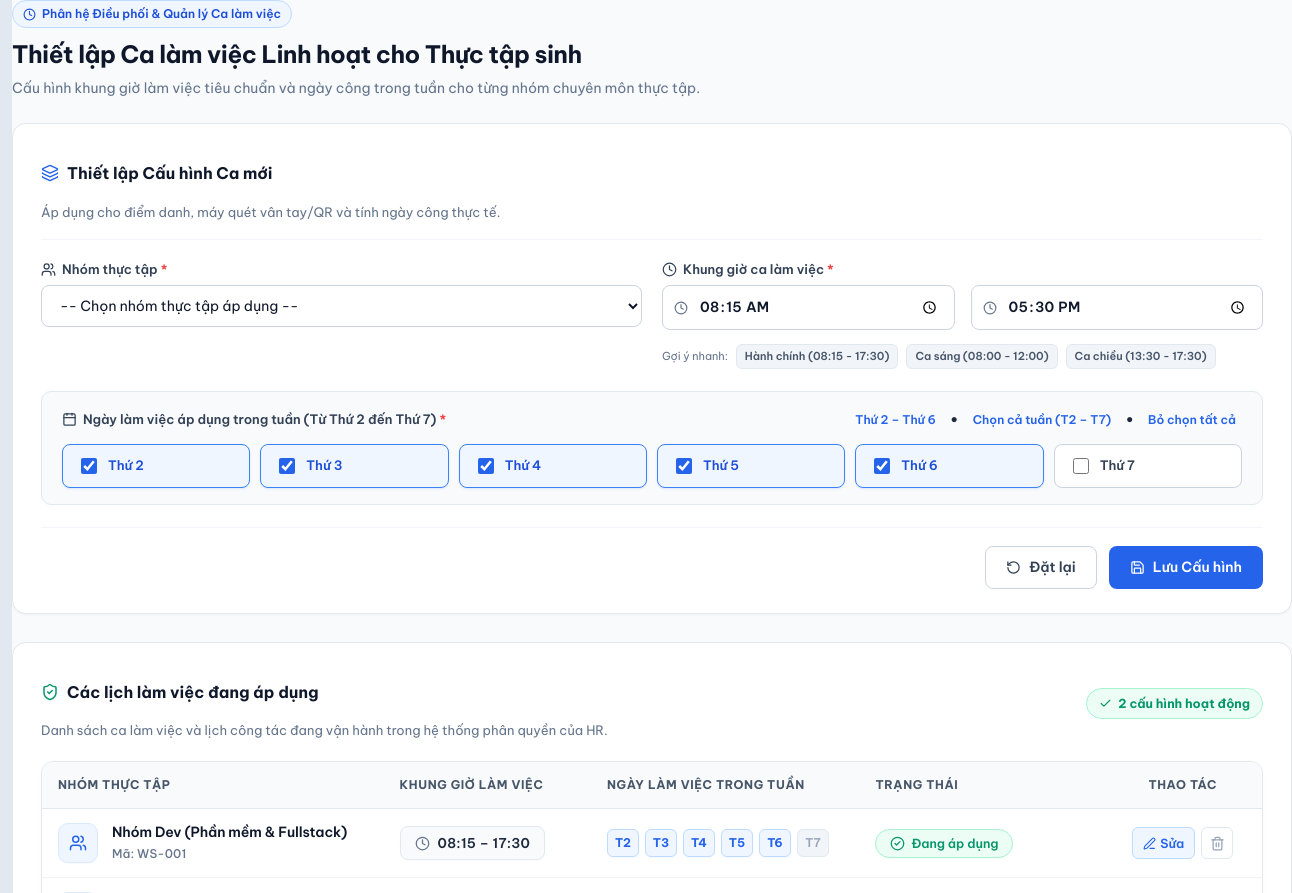
WorkScheduleSettings Component Test Suite › 4. Gọi API thành công & Tự động Push cấu hình mới vào danh sách › thêm lịch làm việc mới vào danh sách bên dưới form sau khi lưu
# Chọn Nhóm thực tập
Select "Nhóm Tester (QA / QC Automation)" in the dropdown named "Chọn nhóm thực tập" at (342, 306), box [41,285,642,327]
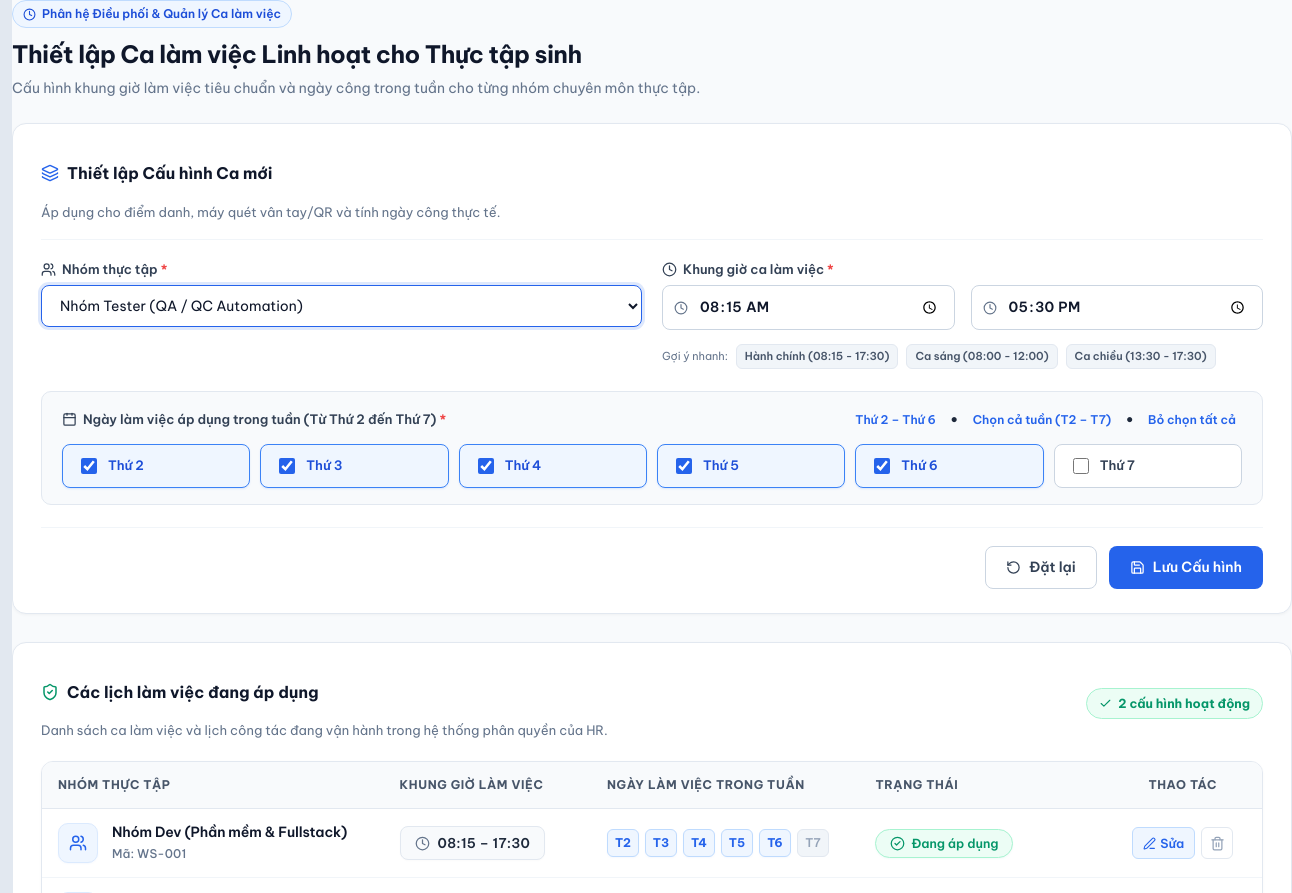
# Chỉnh giờ hợp lệ
Replace the text in the time field named "Giờ bắt đầu" with "09:00" at (808, 308), box [662,285,954,330]
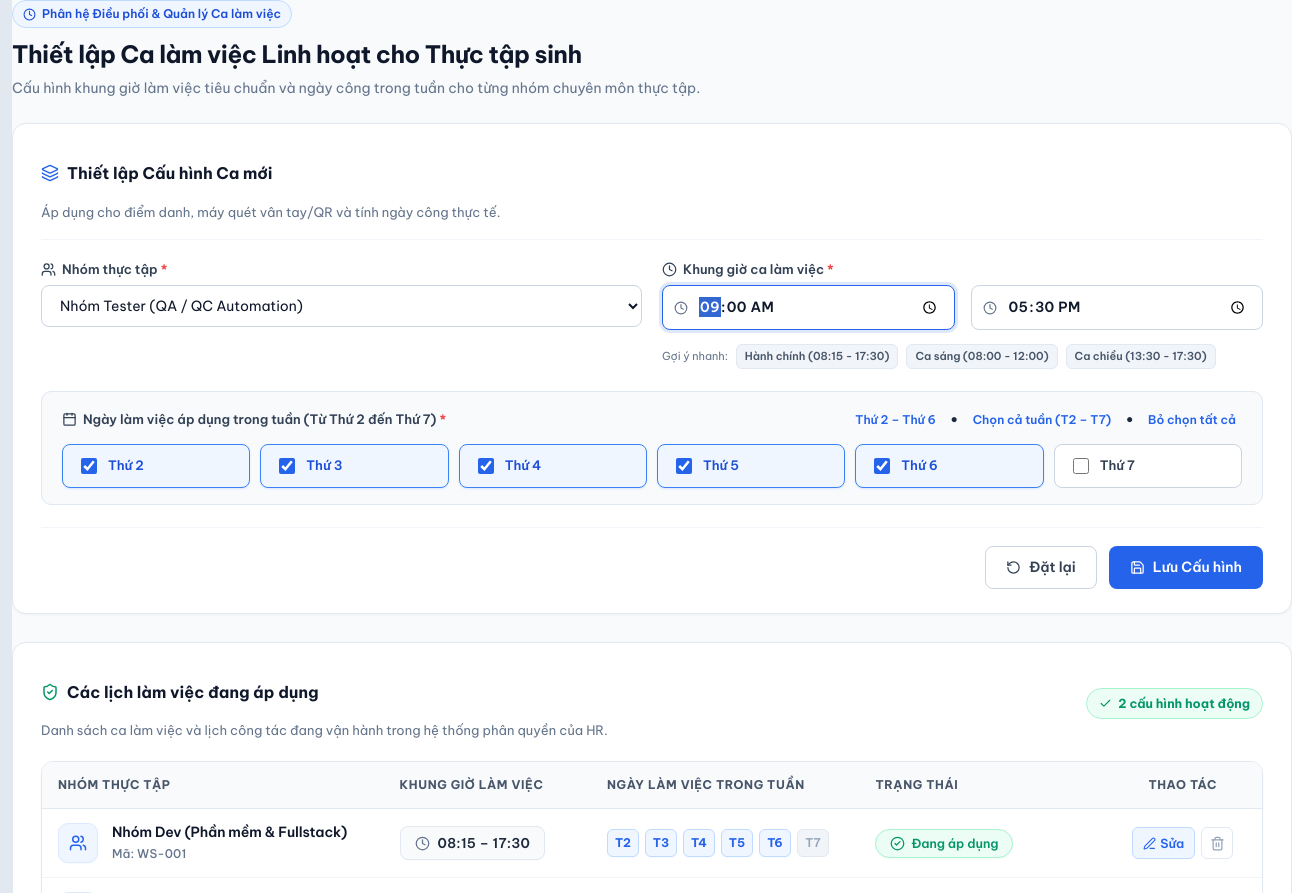
Replace the text in the time field named "Giờ kết thúc" with "18:00" at (1117, 308), box [970,285,1263,330]
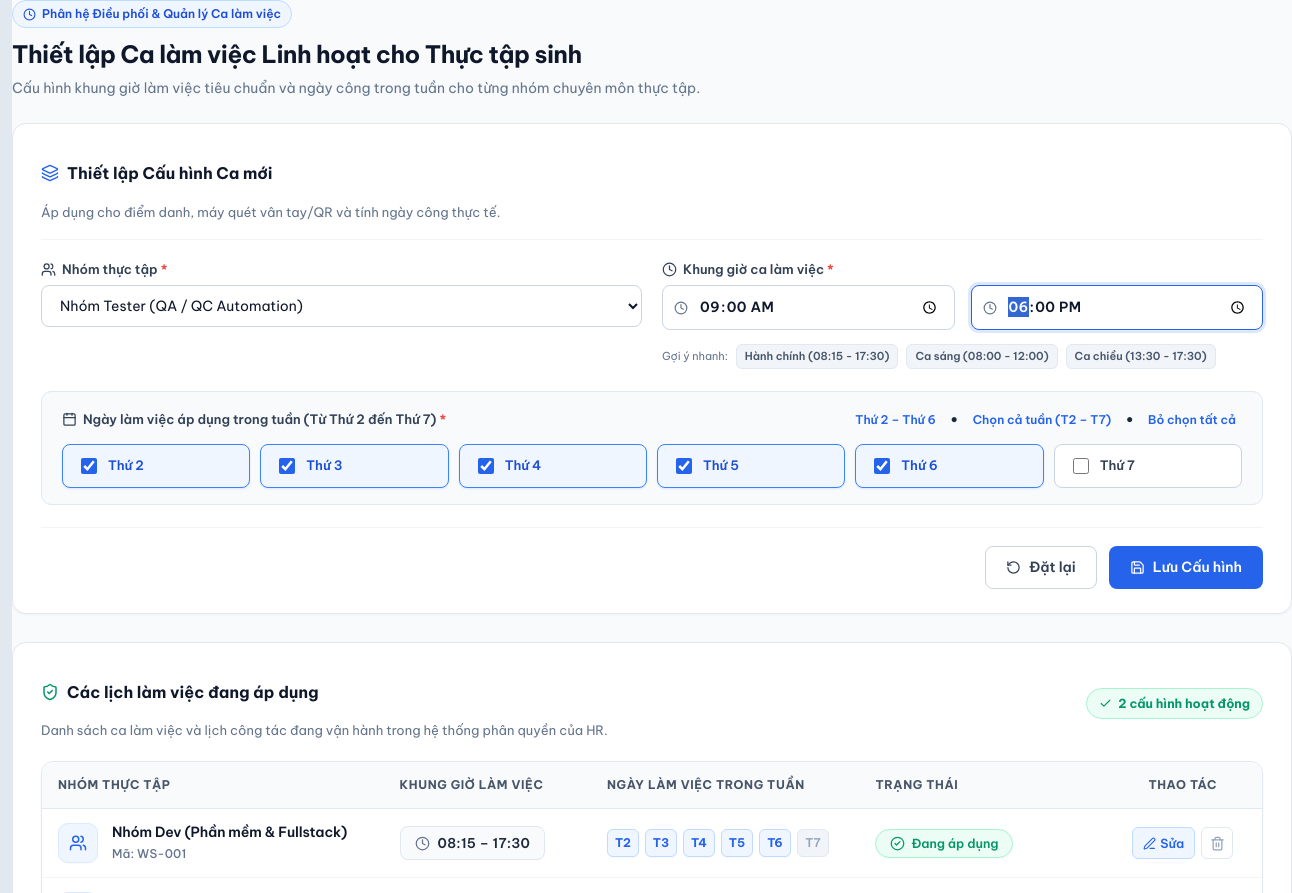
# Bấm Lưu Cấu hình
Click the button "Lưu Cấu hình" at (1186, 567), box [1109,546,1263,588]
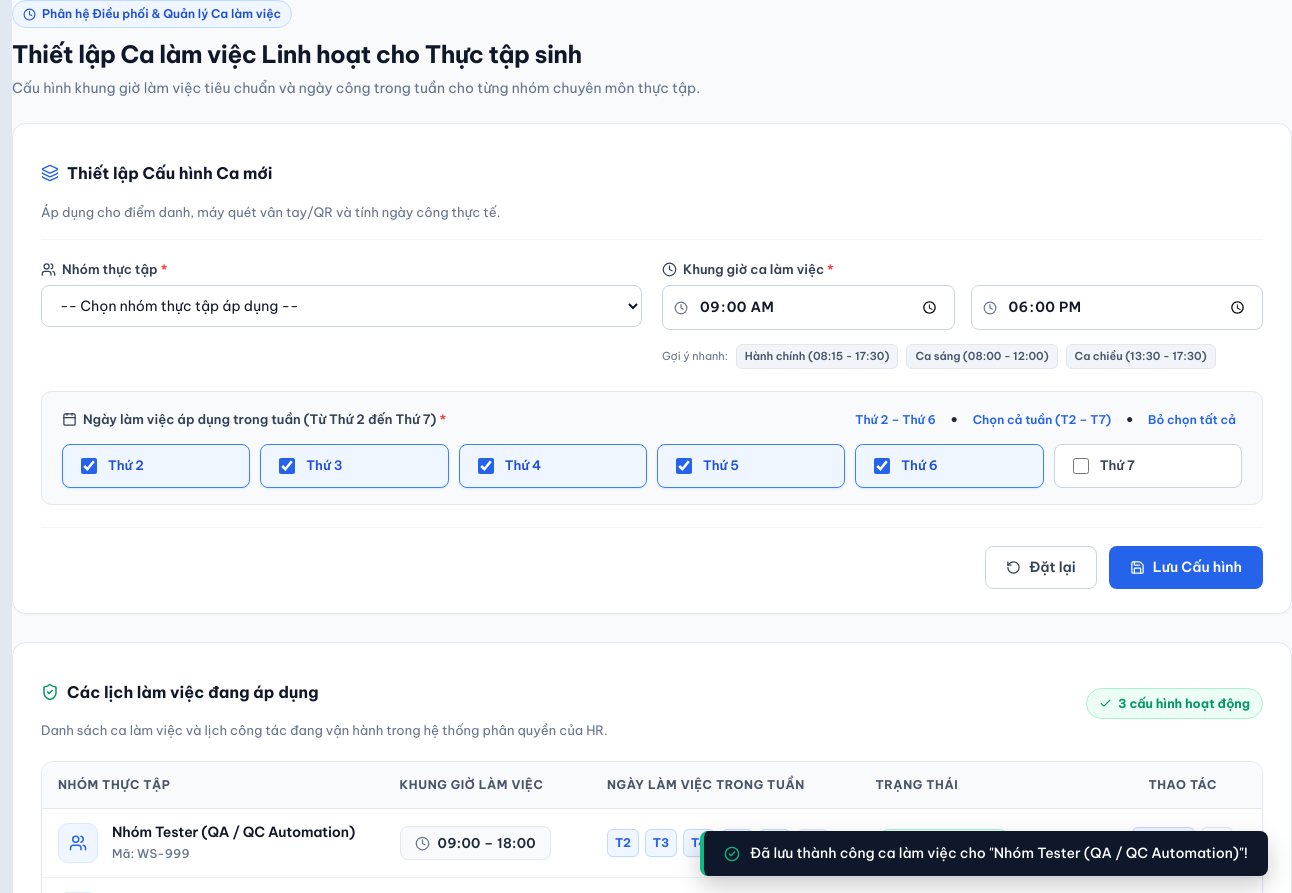
Now the text "09:00 – 18:00" is shown, box [438,833,536,853]
Now the text "Đã lưu thành công ca làm việc" is shown, box [750,844,1248,862]
